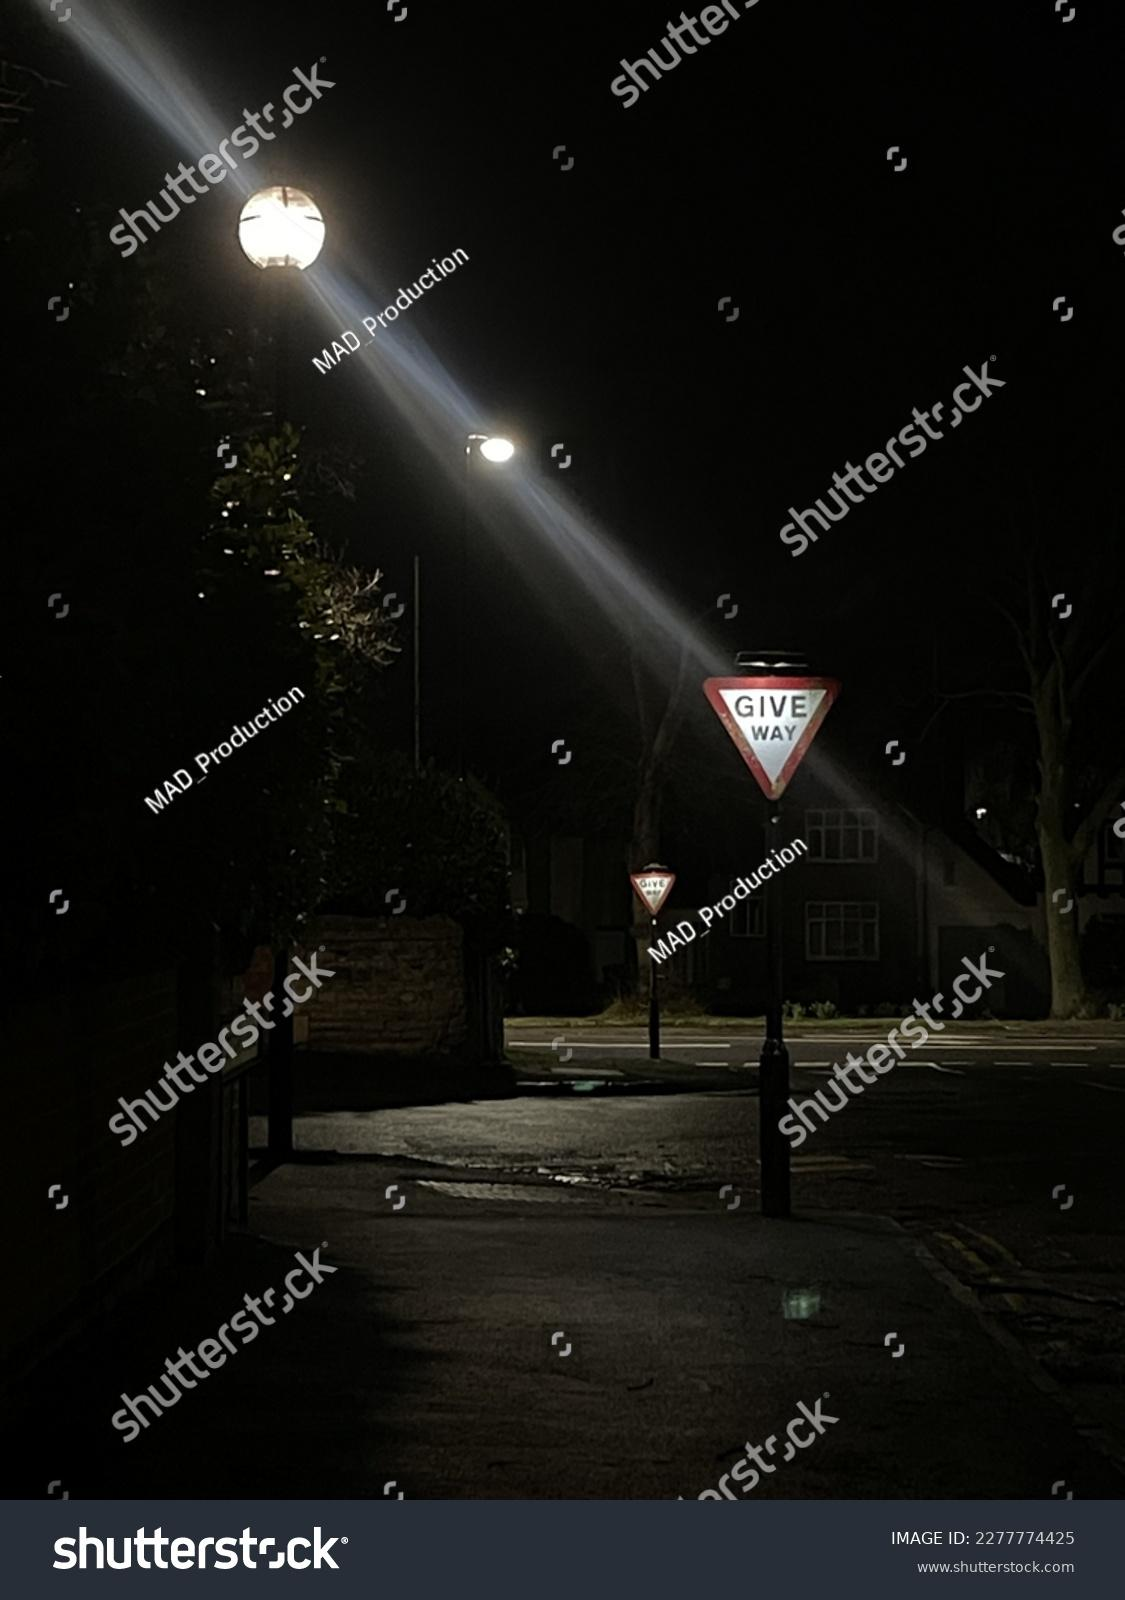Give Way: (711, 644, 847, 801)
